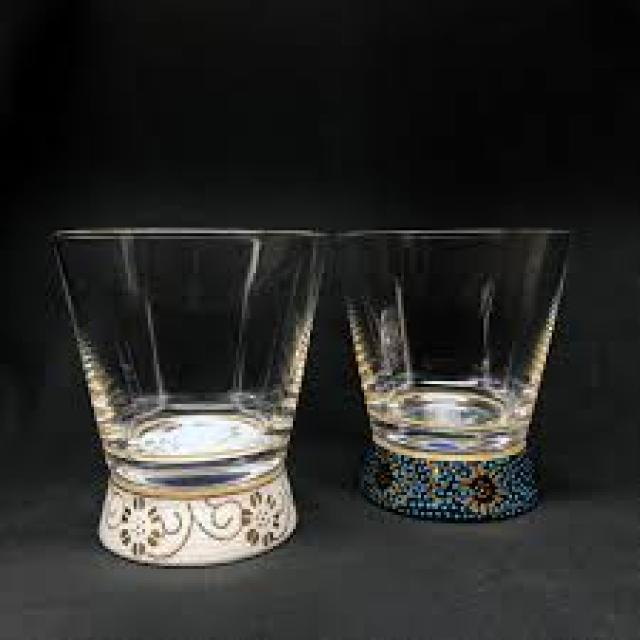glass: (49, 225, 322, 484), (327, 228, 569, 447)
